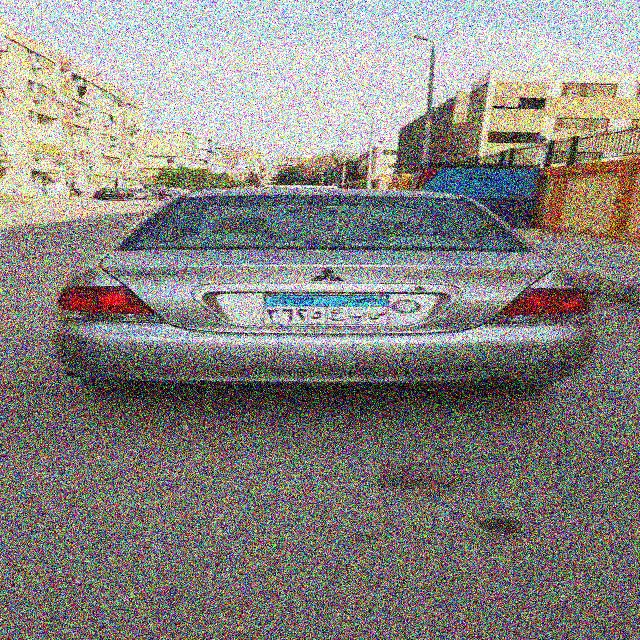License Plate: (260, 293, 392, 326)
